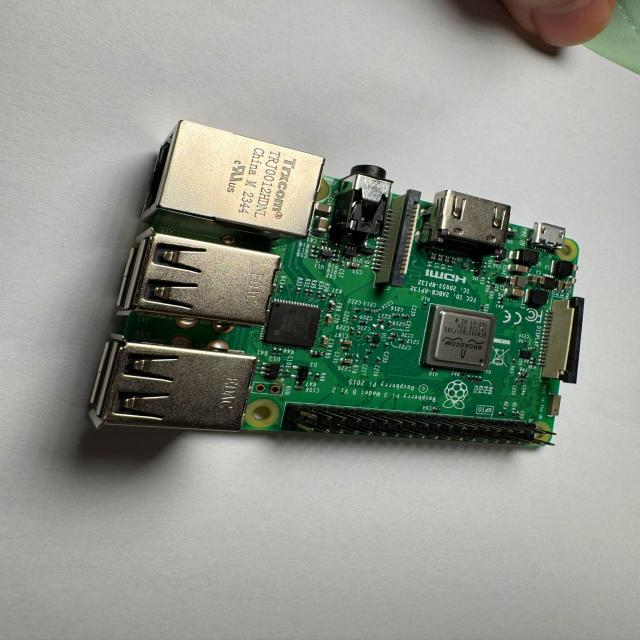CPU: (421, 306, 498, 377)
Ethernet: (158, 122, 324, 240)
GPIO: (280, 406, 554, 451)
HDMI: (426, 190, 513, 262)
RAM-3: (262, 301, 320, 352)
Raspberry: (88, 121, 585, 449)
